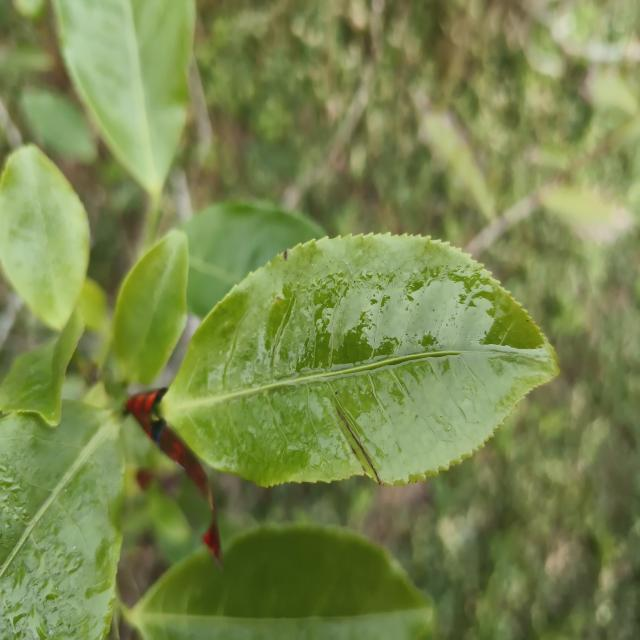Leaf: (160, 234, 557, 486), (131, 525, 435, 640), (0, 401, 125, 640), (52, 0, 195, 199), (182, 201, 325, 318), (0, 145, 90, 330), (114, 230, 189, 384), (0, 311, 84, 426), (22, 88, 97, 163), (540, 186, 633, 241)
